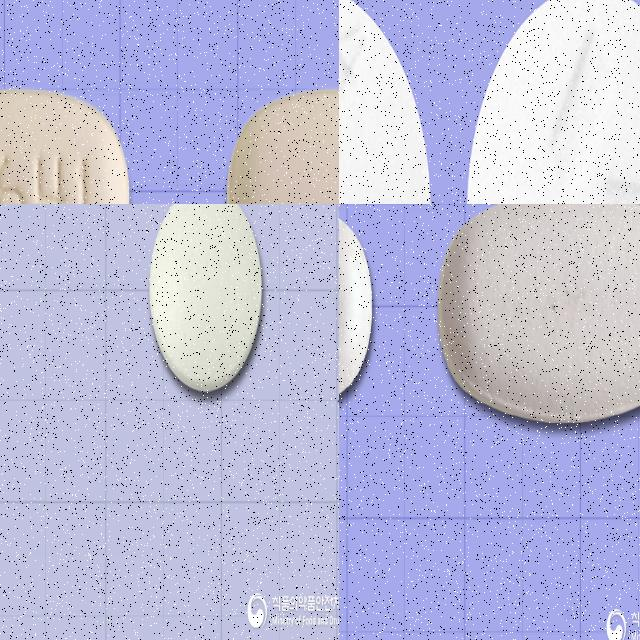Evotaz: (0, 90, 131, 204), (226, 90, 339, 204)
Samsung Clarithromycin Tab: (466, 0, 640, 204), (339, 0, 433, 204)
Truvada Tab: (438, 204, 640, 424)
Unifixime Cap: (149, 204, 262, 394)
